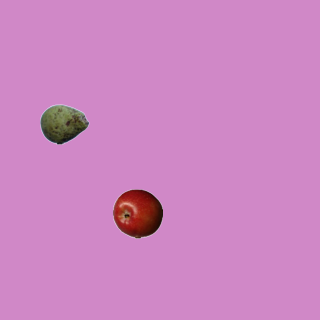Apple Braeburn: (112, 188, 162, 238)
Pear Stone: (39, 99, 89, 149)
